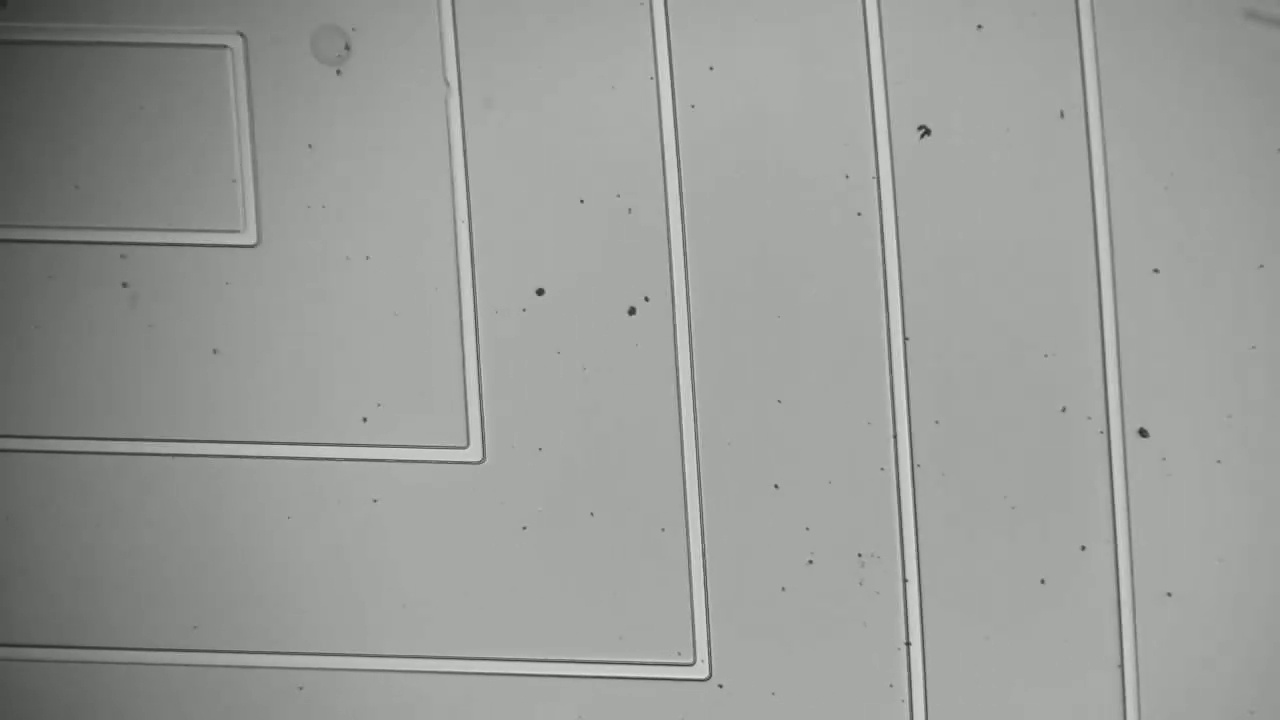edge_bite: (437, 67, 468, 106)
